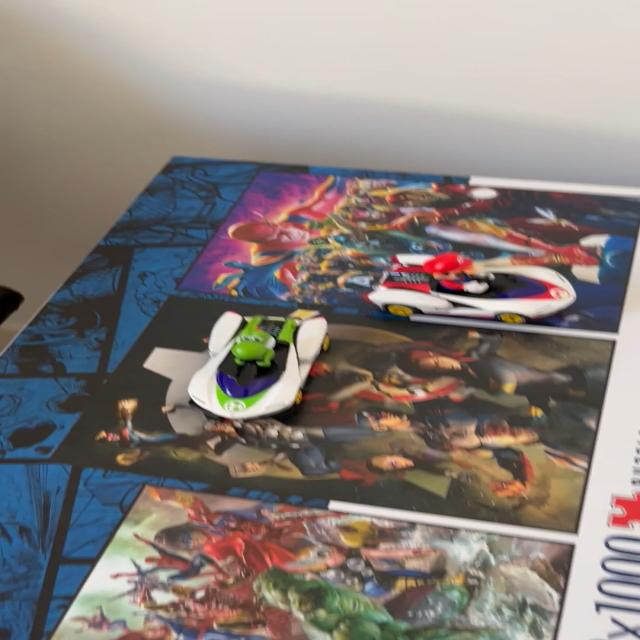mario: (361, 250, 598, 333)
yoshi: (172, 303, 340, 431)
